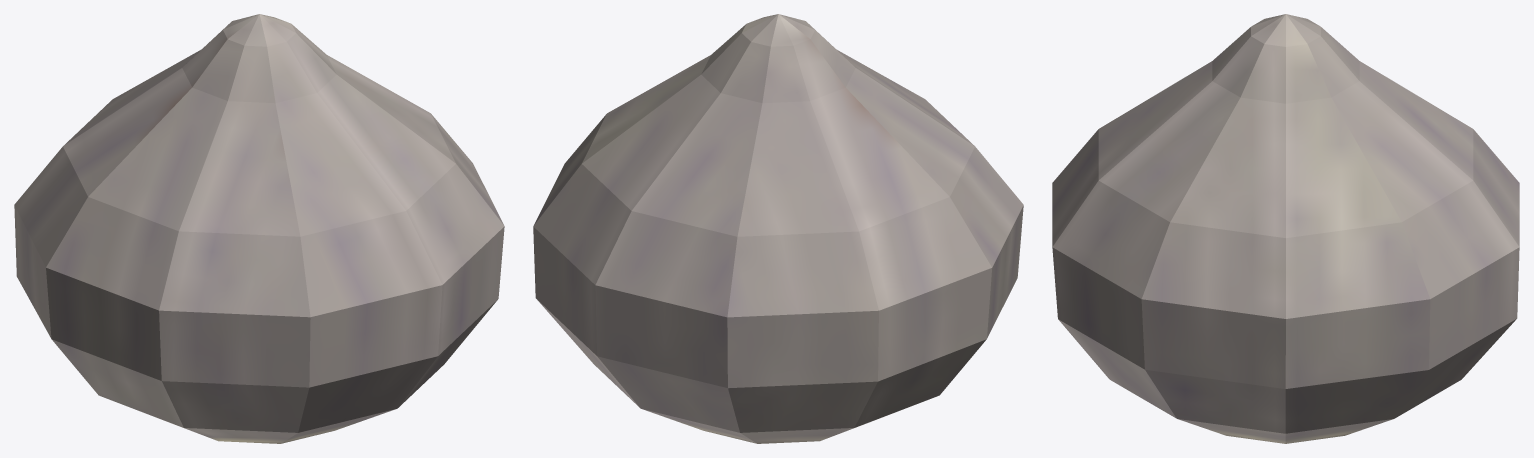
File: Garlic.fbx
The picture shows the model from 3 angles, left to right: view 1: azimuth 30°, elevation 25°; view 2: azimuth 150°, elevation 25°; view 3: azimuth 270°, elevation 25°; orthographic projection.
Visible parts, largest first — view 1: pSphere1; view 2: pSphere1; view 3: pSphere1.
Boxes of the visible parts, x1,y1,x2,y2 form: pSphere1: (14, 14, 504, 443); pSphere1: (533, 14, 1023, 443); pSphere1: (1052, 14, 1519, 443).
Bounding box in the file's own units: 33.84 × 30.61 × 32.12.
